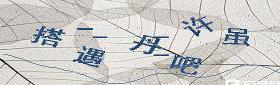chinese: (181, 12, 217, 40), (31, 23, 66, 51), (74, 43, 108, 71), (131, 31, 165, 57), (221, 25, 254, 49), (167, 56, 206, 76)
